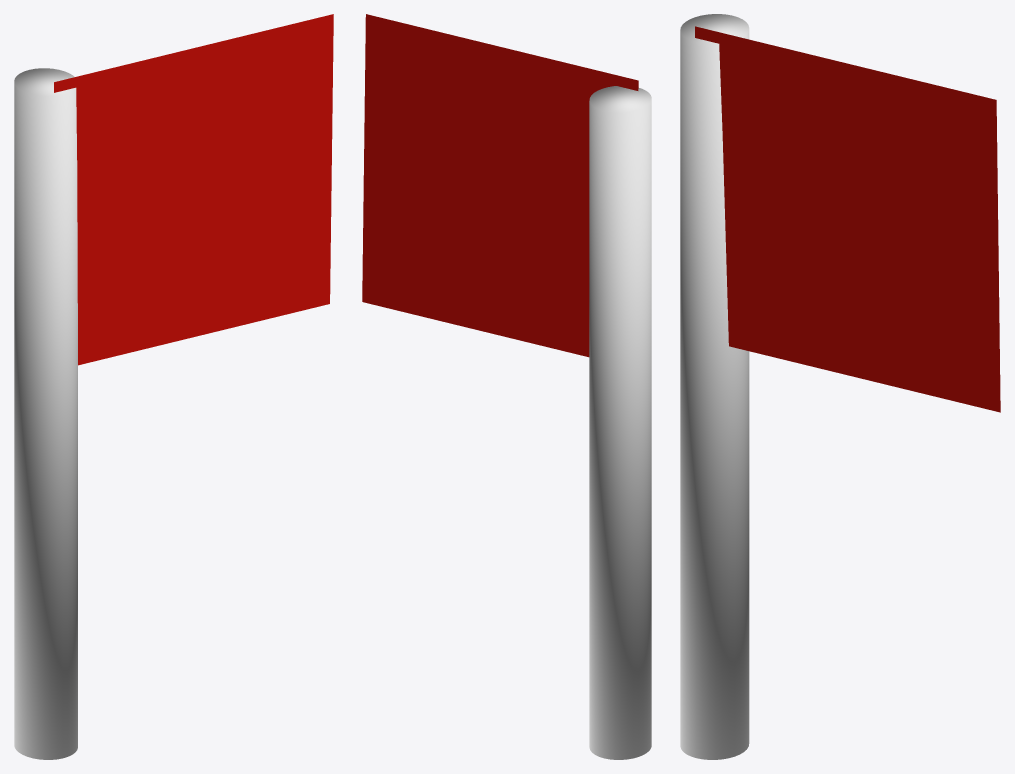
The model's file is flag.glb.
The picture shows the model from 3 angles, left to right: view 1: azimuth 30°, elevation 25°; view 2: azimuth 150°, elevation 25°; view 3: azimuth 330°, elevation 25°; orthographic projection. The views are drawn at different scales.
Parts seen in each view (by area): view 1: Plane; view 2: Plane; view 3: Plane.
Boxes of the visible parts, left/top/right/bottom form: Plane: left=14, top=14, right=333, bottom=759; Plane: left=362, top=14, right=651, bottom=759; Plane: left=680, top=14, right=1000, bottom=759.
Bounding box in the file's own units: 1.44 × 3.09 × 0.2802.
